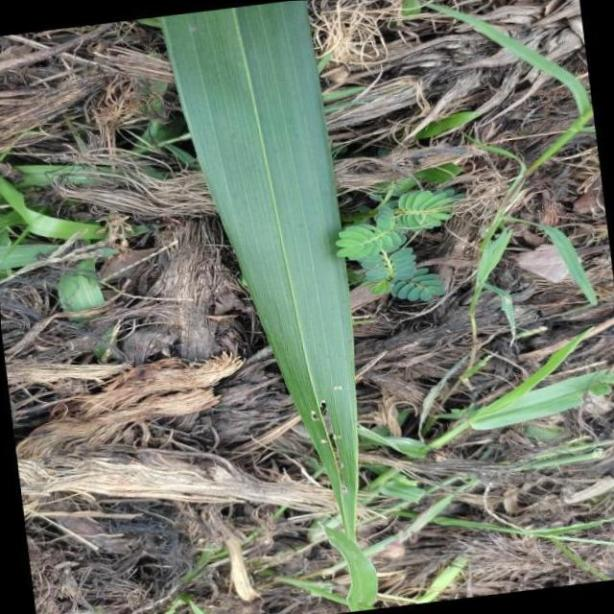Boron: (160, 0, 387, 614)
